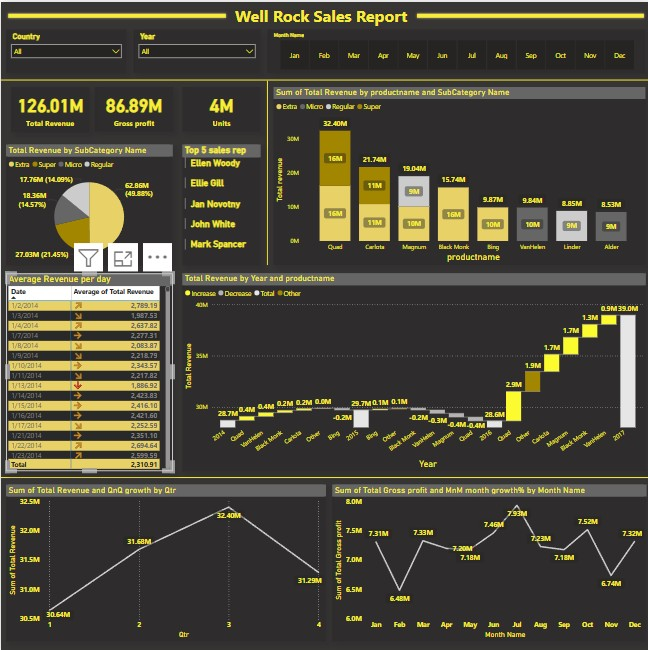

What the dashboard file says about the page in this screenshot:
{"tool":"powerbi","page":{"name":"Page 1","canvas":[1300,1300],"ordinal":0},"visuals":[{"type":"textbox","box":[0,0,1280.3,56.3],"z":0},{"type":"slicer","fields":{"Values":["Geography.Country"]},"box":[10,55.7,241.4,87.1],"z":1000},{"type":"slicer","fields":{"Values":["DateMaster.Year"]},"box":[265.7,55.7,254.3,87.1],"z":2000},{"type":"slicer","fields":{"Values":["DateMaster.Month Name"]},"box":[532.9,55.7,757.1,87.1],"z":3000},{"type":"shape","box":[0,142.9,1390,27.1],"z":4000},{"type":"card","fields":{"Values":["Sum(Sales.Total Revenue)"]},"box":[20,170,157.1,90],"z":5000},{"type":"card","fields":{"Values":["Sum(Sales.Total Gross profit)"]},"box":[187.1,170,157.1,88.6],"z":6000},{"type":"card","fields":{"Values":["Sum(Sales.Units)"]},"box":[362.9,170,157.1,88.6],"z":7000},{"type":"shape","box":[520,157.1,25.7,368.6],"z":8000},{"type":"pieChart","title":"Total Revenue by SubCategory Name","fields":{"Category":["Sub categories.SubCategory Name"],"Y":["Sum(Sales.Total Revenue)"]},"box":[10.9,285.4,333.3,241.8],"z":9000},{"type":"multiRowCard","title":"Top 5 sales rep","fields":{"Values":["Sales rep.Sales Rep Name"]},"box":[362.9,284.3,157.1,241.4],"z":10000},{"type":"waterfallChart","title":"Total Revenue by Year and productname","fields":{"Category":["DateMaster.Year"],"Breakdown":["product.productname"],"Y":["Sum(Sales.Total Revenue)"]},"box":[362.9,541.4,927.1,397.1],"z":11000},{"type":"columnChart","fields":{"Category":["product.productname"],"Y":["Sum(Sales.Total Revenue)"],"Series":["Sub categories.SubCategory Name"]},"box":[545.7,170,744.3,355.7],"z":12000},{"type":"shape","box":[0,938.6,1390,27.1],"z":13000},{"type":"lineChart","fields":{"Category":["DateMaster.Qtr"],"Y":["Sum(Sales.Total Revenue)"]},"box":[10,965.7,640,314.3],"z":14000},{"type":"lineChart","fields":{"Category":["DateMaster.Month Name"],"Y":["Sum(Sales.Total Gross profit)"]},"box":[661.4,965.7,628.6,314.3],"z":15000},{"type":"pivotTable","title":"Average Revenue per day","fields":{"Rows":["DateMaster.Date"],"Values":["Avg(Sales.Total Revenue)"]},"box":[10.9,542.4,333.3,396.4],"z":16000},{"type":"shape","box":[10,8.6,444.3,40],"z":16001},{"type":"shape","box":[827.1,8.6,462.9,40],"z":16002}]}

Visuals, with their boxes in screenshot pixels (x1, y1, x2, y2), scaled from the page's 1300x1300 canvas onto the 648x650 screenshot:
textbox: 0, 0, 638, 28
slicer - Geography.Country: 5, 28, 125, 71
slicer - DateMaster.Year: 132, 28, 259, 71
slicer - DateMaster.Month Name: 266, 28, 643, 71
shape: 0, 71, 647, 85
card - Sum(Sales.Total Revenue): 10, 85, 88, 130
card - Sum(Sales.Total Gross profit): 93, 85, 172, 129
card - Sum(Sales.Units): 181, 85, 259, 129
shape: 259, 79, 272, 263
"Total Revenue by SubCategory Name" pieChart: 5, 143, 172, 264
"Top 5 sales rep" multiRowCard: 181, 142, 259, 263
"Total Revenue by Year and productname" waterfallChart: 181, 271, 643, 469
columnChart - product.productname x Sum(Sales.Total Revenue): 272, 85, 643, 263
shape: 0, 469, 647, 483
lineChart - DateMaster.Qtr x Sum(Sales.Total Revenue): 5, 483, 324, 640
lineChart - DateMaster.Month Name x Sum(Sales.Total Gross profit): 330, 483, 643, 640
"Average Revenue per day" pivotTable: 5, 271, 172, 469
shape: 5, 4, 226, 24
shape: 412, 4, 643, 24
